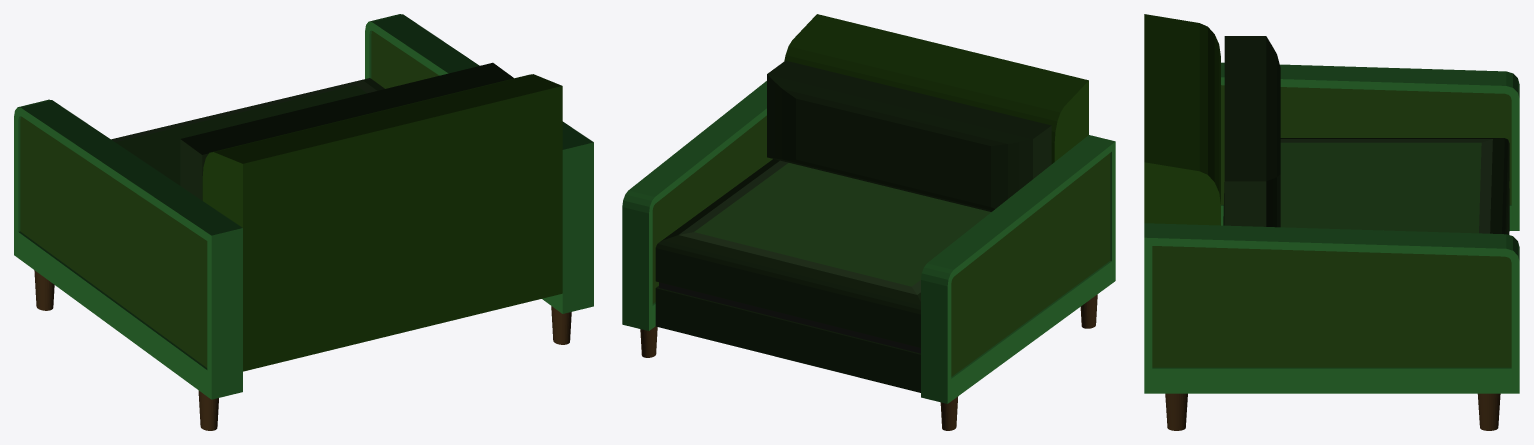
The model's file is Sofa 4.fbx.
3 views of the same model, side by side, from view 1: azimuth 30°, elevation 25°; view 2: azimuth 150°, elevation 25°; view 3: azimuth 270°, elevation 25° (orthographic). The views are drawn at different scales.
Parts seen in each view (by area): view 1: Node 0; view 2: Node 0; view 3: Node 0.
Boxes of the visible parts, bbox=[...] form: Node 0: bbox=[14, 14, 593, 430]; Node 0: bbox=[622, 14, 1115, 430]; Node 0: bbox=[1144, 14, 1519, 430].
Size of the model in its own units: 1.21 by 0.9139 by 1.35.
